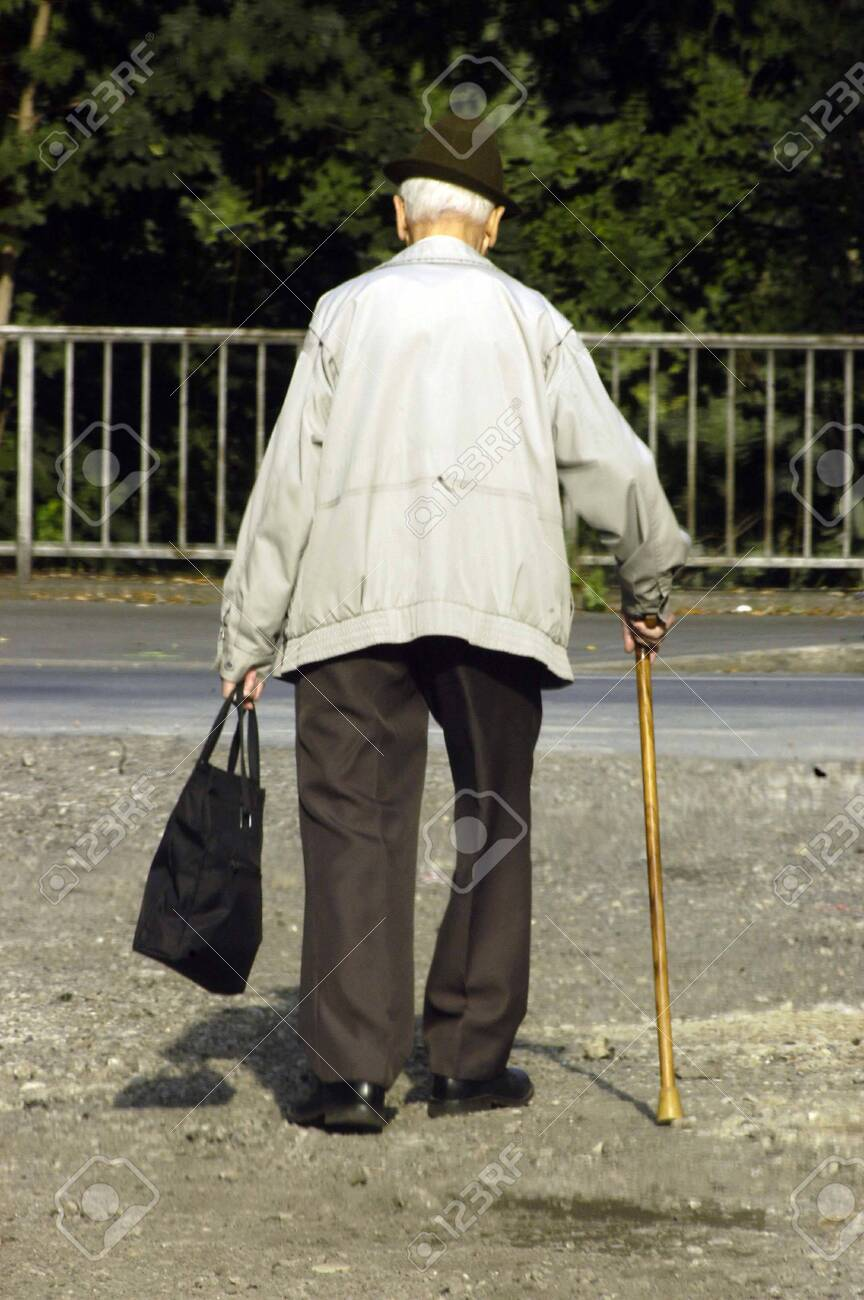person: (151, 123, 705, 1141)
